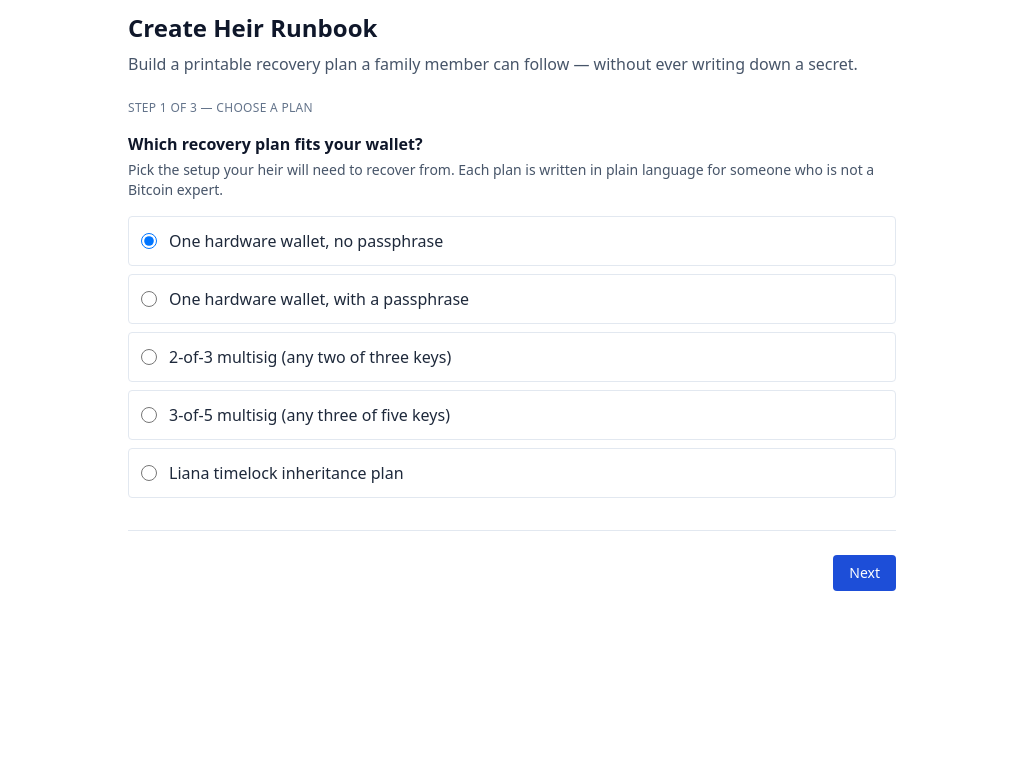
Create Heir Runbook (US-053) › step 2 warns to record WHERE materials are, not WHAT, and never to write secrets
What coordinates should you click on to do the following:
click the button "Next"
I would click on:
 (865, 573)
Its box is [833,555,896,591].
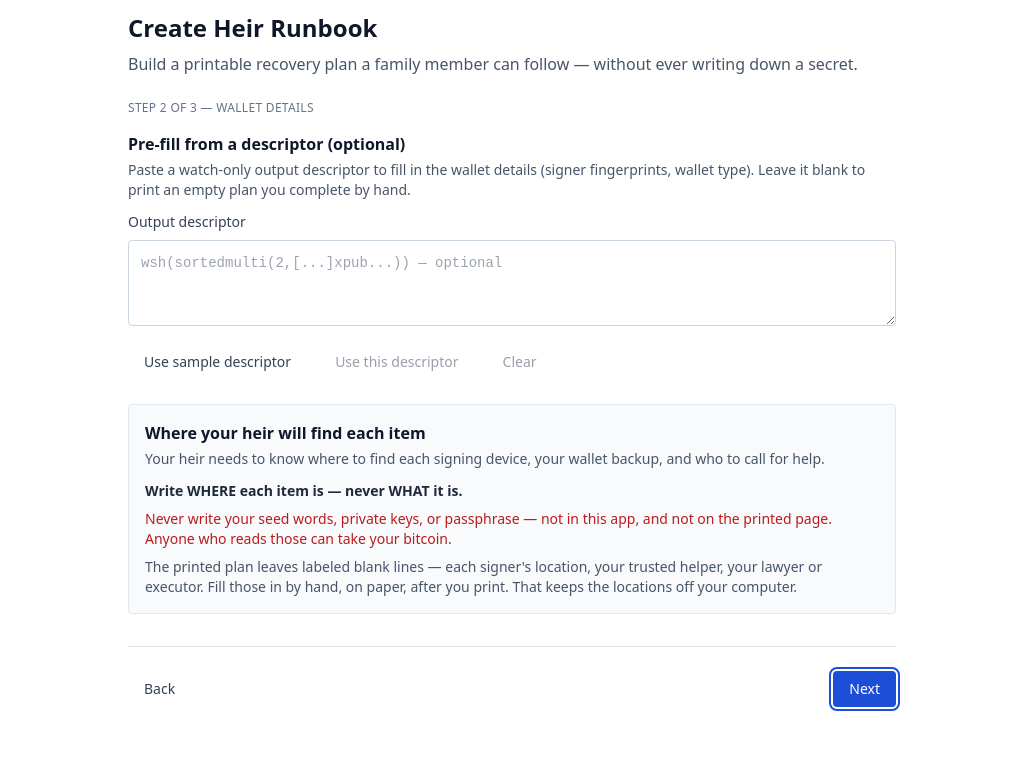
Expected: the text "Write WHERE each item is — never WHAT it is." is shown, [145,481,462,500]
Expected: the text "Never write your seed words, private keys, or passphrase" is shown, [145,509,832,548]
Expected: the text box labelled "Output descriptor" is shown, [128,240,896,326]
